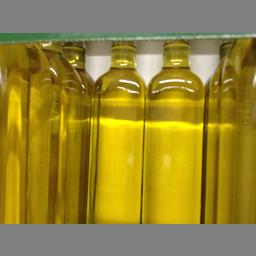oil: (84, 38, 142, 222), (146, 40, 204, 222)
